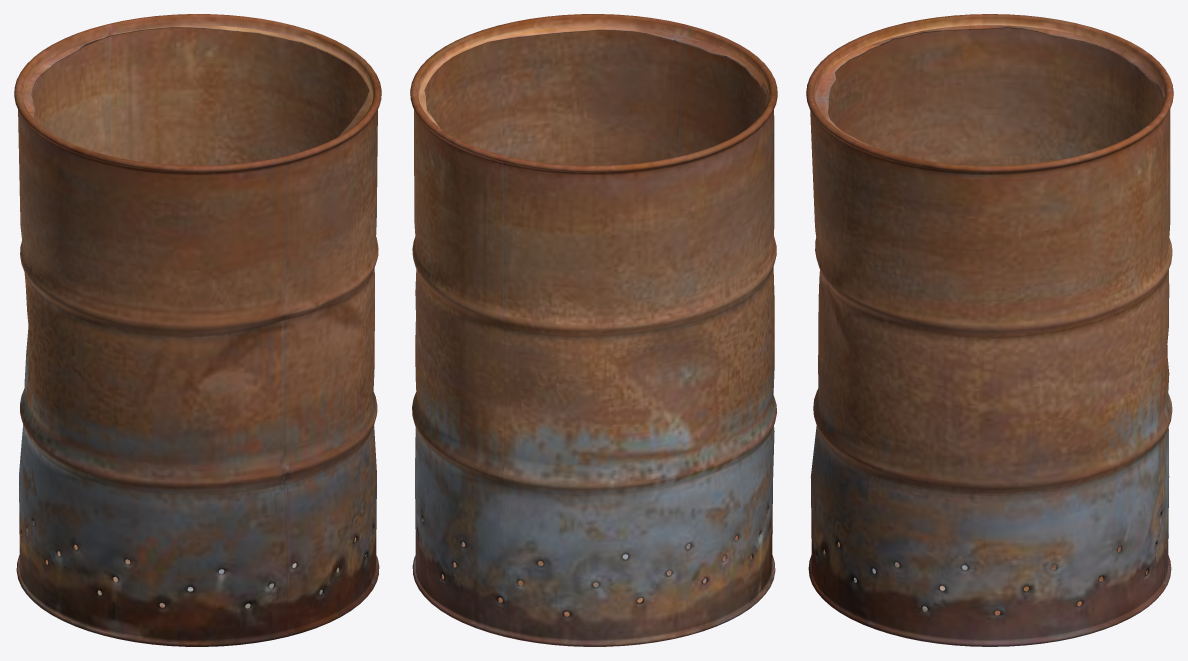
Rendered from barrel_stove.gltf.
The picture shows the model from 3 angles, left to right: view 1: azimuth 30°, elevation 25°; view 2: azimuth 150°, elevation 25°; view 3: azimuth 270°, elevation 25°; orthographic projection.
Visible parts, largest first — view 1: barrel_stove; view 2: barrel_stove; view 3: barrel_stove.
Boxes of the visible parts, x1=… form: barrel_stove: x1=14, y1=14, x2=381, y2=646; barrel_stove: x1=410, y1=14, x2=777, y2=646; barrel_stove: x1=806, y1=14, x2=1173, y2=646.
Bounding box in the file's own units: 0.5926 × 0.8556 × 0.5926.
